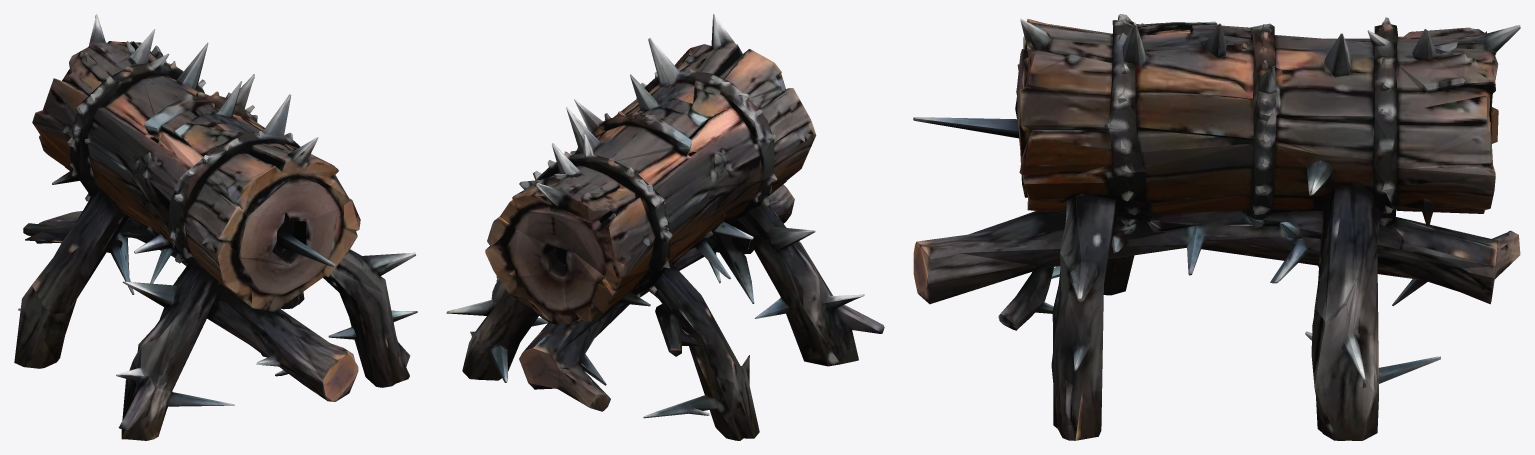
Rendered from orc_spike_barricade_01.glb.
3 views of the same model, side by side, from view 1: azimuth 30°, elevation 25°; view 2: azimuth 150°, elevation 25°; view 3: azimuth 270°, elevation 25° (orthographic). The views are drawn at different scales.
Visible parts, largest first — view 1: geometry_0; view 2: geometry_0; view 3: geometry_0.
Boxes of the visible parts, left/top/right/bottom form: geometry_0: left=14, top=14, right=417, bottom=440; geometry_0: left=446, top=14, right=884, bottom=440; geometry_0: left=913, top=14, right=1520, bottom=440.
Size of the model in its own units: 0.7417 by 0.6553 by 0.999.
1 material, 1 textured.
